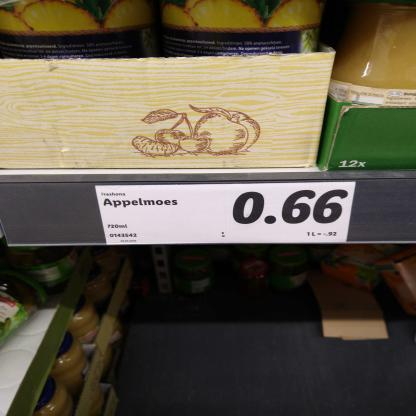prtg: (95, 183, 357, 246)
